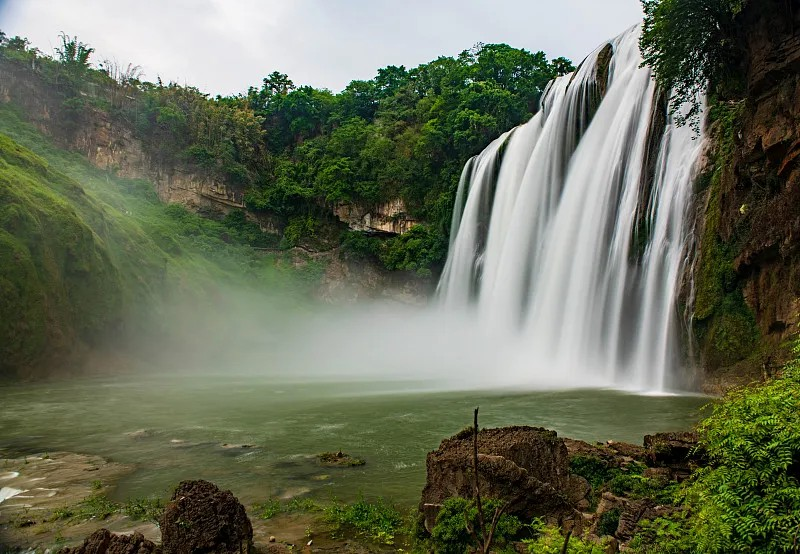Huangguoshu: (430, 22, 707, 398)
